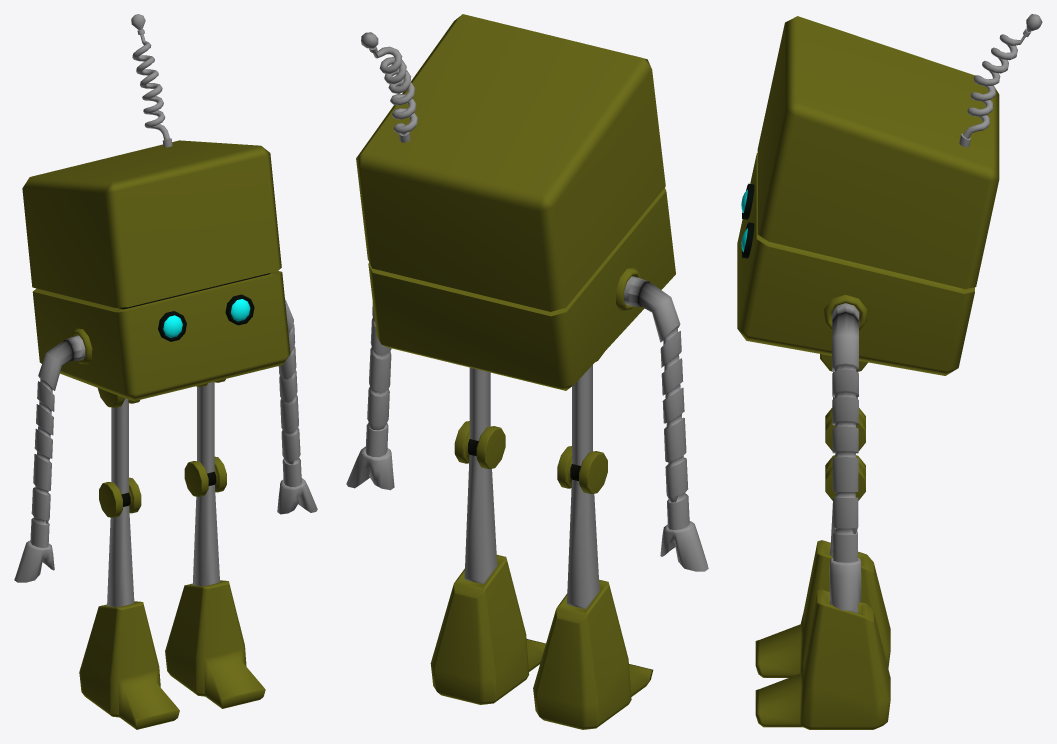
The model's file is robot1_pose.fbx.
3 renders of one model, left to right at view 1: azimuth 30°, elevation 25°; view 2: azimuth 150°, elevation 25°; view 3: azimuth 270°, elevation 25°, orthographic. The views are drawn at different scales.
Parts seen in each view (by area): view 1: body2; view 2: body2; view 3: body2.
Part boxes in pixels (bbox=[...]): body2: bbox=[14, 14, 317, 729]; body2: bbox=[346, 14, 708, 729]; body2: bbox=[737, 14, 1042, 729].
Bounding box in the file's own units: 45.21 × 86.68 × 33.84.
